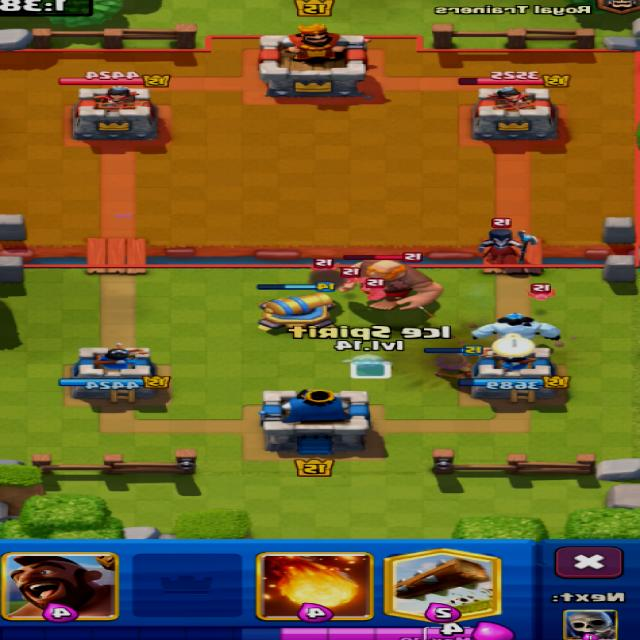Enemy-Bat: (354, 279, 385, 300), (340, 266, 366, 284), (528, 283, 555, 300)
Enemy-Giant: (355, 260, 442, 309)
Enemy-KingTower: (259, 24, 369, 98)
Enemy-NightWitch: (481, 219, 537, 262)
Enemy-PrincessTower: (74, 86, 158, 140), (473, 86, 558, 139)
Player-Cannon: (259, 292, 334, 329)
Player-IceGolem: (473, 313, 559, 340)
Player-KingTower: (261, 389, 370, 454)
Player-Musketeer: (436, 353, 471, 379)
Player-PrincessTower: (59, 342, 171, 410), (459, 347, 570, 402)
